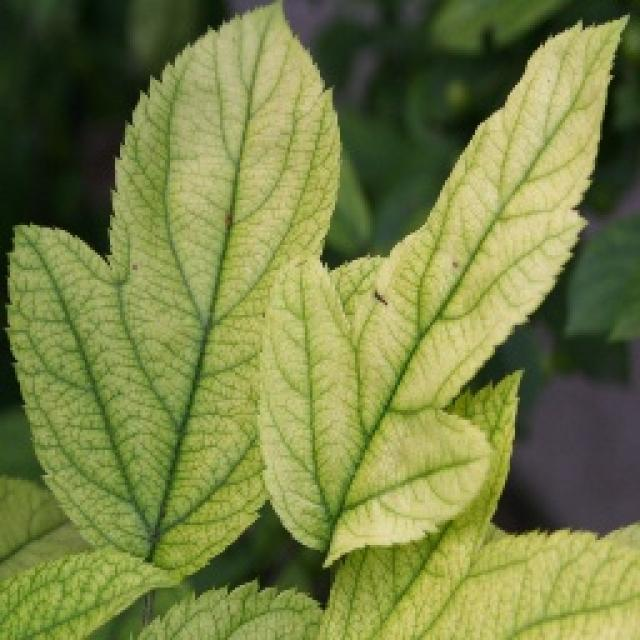Chlorosis: (46, 51, 558, 590)
